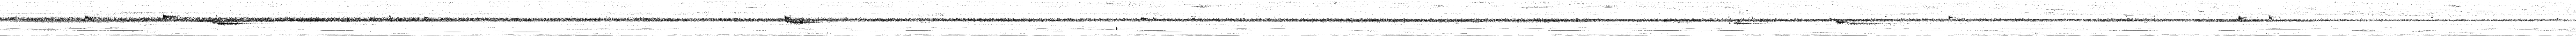meteor: (784, 15, 816, 25), (1837, 21, 1876, 25), (1733, 21, 1766, 25), (217, 21, 246, 25)
